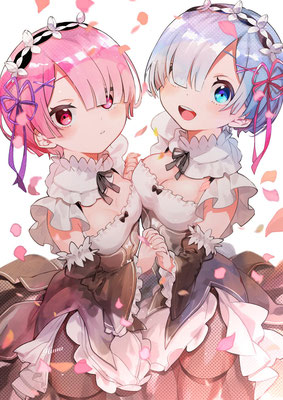rem: (140, 4, 282, 400)
